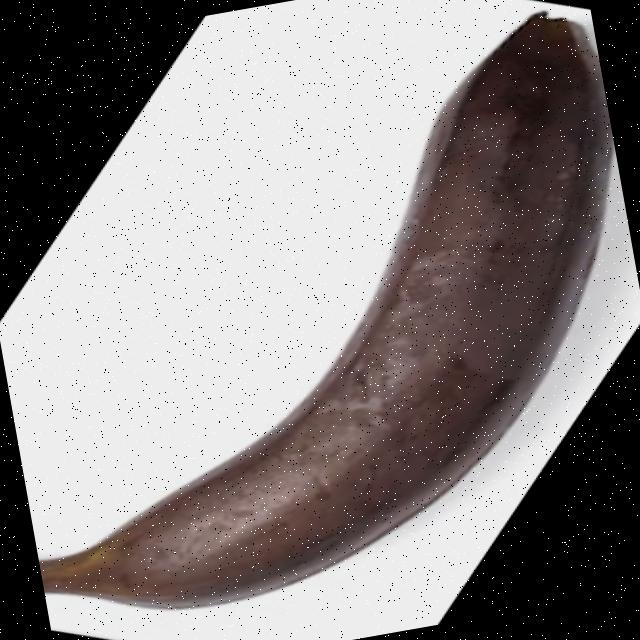Rotten: (0, 1, 640, 634)
